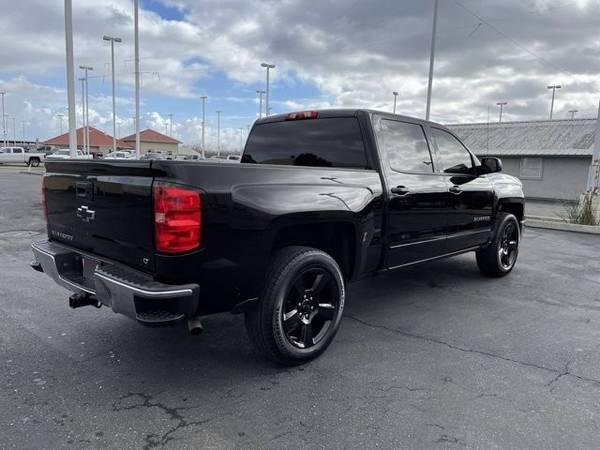Front_Fender: (486, 172, 525, 234)
Front_Right_Door: (438, 171, 493, 256)
Front_Right_Window: (427, 125, 481, 176)
Rear_Bumper: (31, 241, 203, 327)
Rear_Fender: (150, 161, 384, 308)
Rear_Right_Door: (376, 166, 445, 268)
Rear_Right_Window: (378, 117, 438, 173)
Rear_Windshield: (237, 110, 374, 170)
Right_Taillight: (148, 178, 208, 255)
Roof: (361, 107, 483, 175)
Tailgate: (39, 159, 152, 273)
Wheel: (247, 241, 345, 365), (475, 212, 521, 277)
